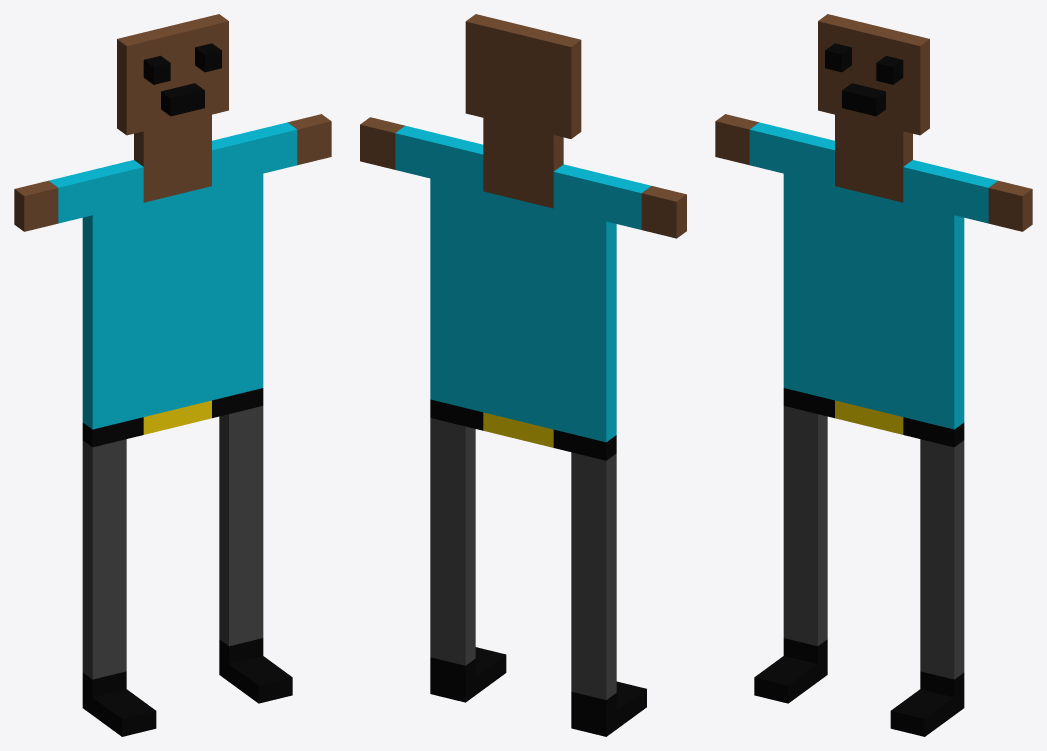
File: male1.obj
The picture shows the model from 3 angles, left to right: view 1: azimuth 30°, elevation 25°; view 2: azimuth 150°, elevation 25°; view 3: azimuth 330°, elevation 25°; orthographic projection. The views are drawn at different scales.
Parts seen in each view (by area): view 1: male1; view 2: male1; view 3: male1.
Boxes of the visible parts, box(x1,y1,x2,y2) form: male1: box(14, 14, 331, 736); male1: box(360, 14, 686, 736); male1: box(715, 14, 1032, 736).
Size of the model in its own units: 18 by 37 by 4.
Materials: 1 (1 with a texture image).
